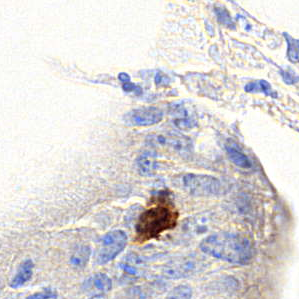Lymphocyte: (135, 201, 177, 240)
